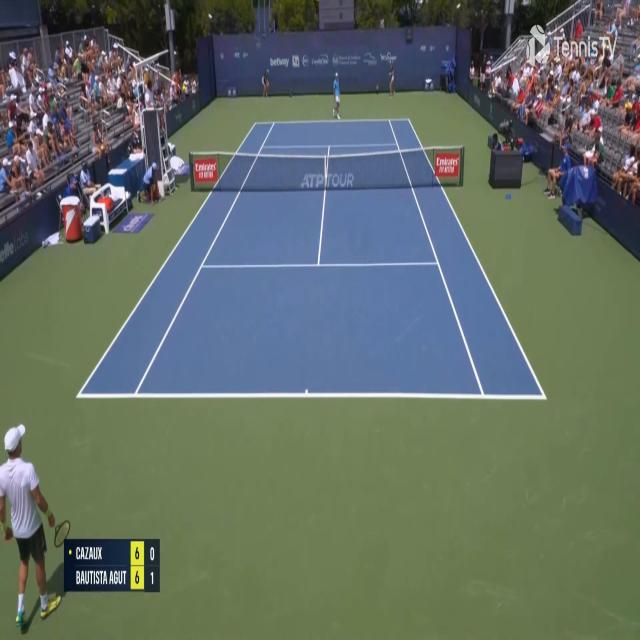tennis-player: (0, 418, 70, 635), (331, 70, 342, 121)
